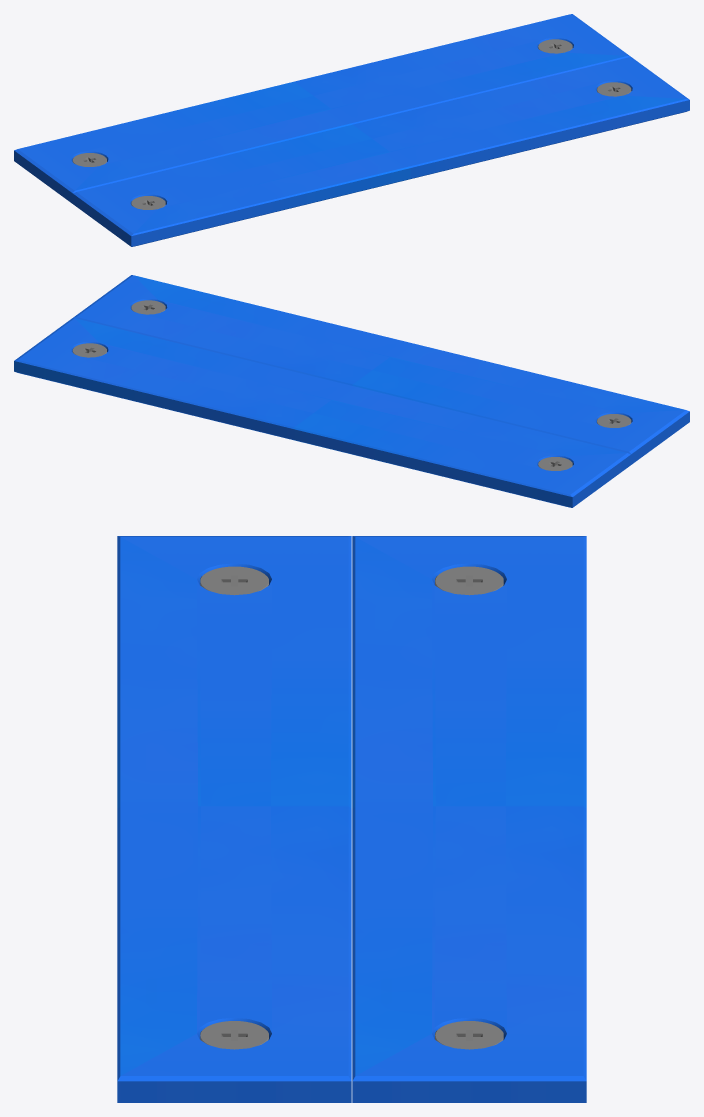
The model's file is DoubleBoltedPlankBlue.fbx.
3 renders of one model, top to bottom at view 1: azimuth 30°, elevation 25°; view 2: azimuth 150°, elevation 25°; view 3: azimuth 270°, elevation 25°, orthographic. The views are drawn at different scales.
Visible parts, largest first — view 1: Cube, Cube.001; view 2: Cube, Cube.001; view 3: Cube, Cube.001.
Boxes of the visible parts, x1=… form: Cube: x1=14, y1=14, x2=689, y2=246; Cube.001: x1=72, y1=39, x2=631, y2=209; Cube: x1=14, y1=275, x2=689, y2=507; Cube.001: x1=72, y1=300, x2=631, y2=470; Cube: x1=117, y1=536, x2=586, y2=1102; Cube.001: x1=200, y1=566, x2=503, y2=1049.
Size of the model in its own units: 21.97 by 0.4885 by 7.99.
